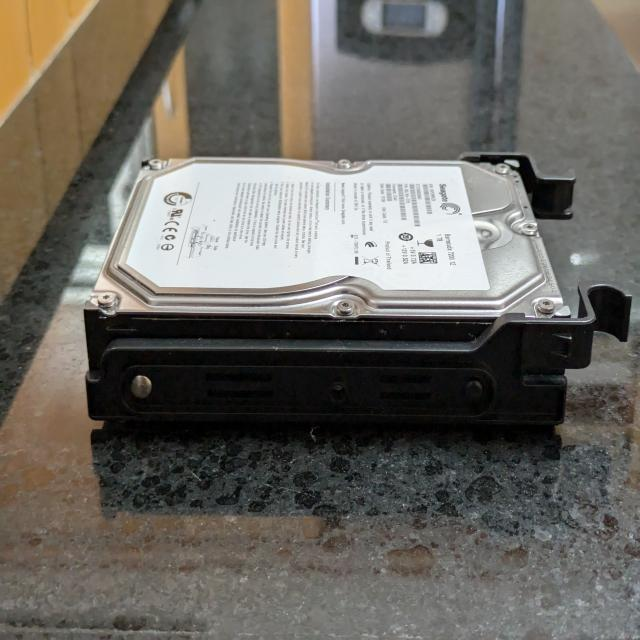DISK: (83, 157, 572, 426)
